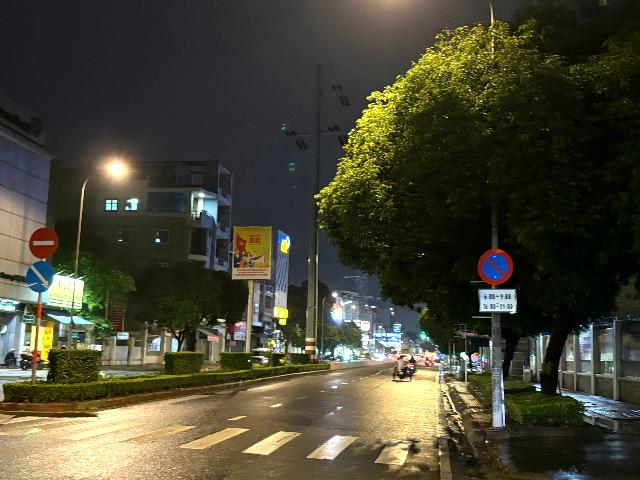cam-di-nguoc-chieu: (29, 226, 59, 260)
cam-do-xe: (478, 248, 515, 286)
huong-phai-di-vong-chuong-ngai-vat: (26, 261, 54, 293)
